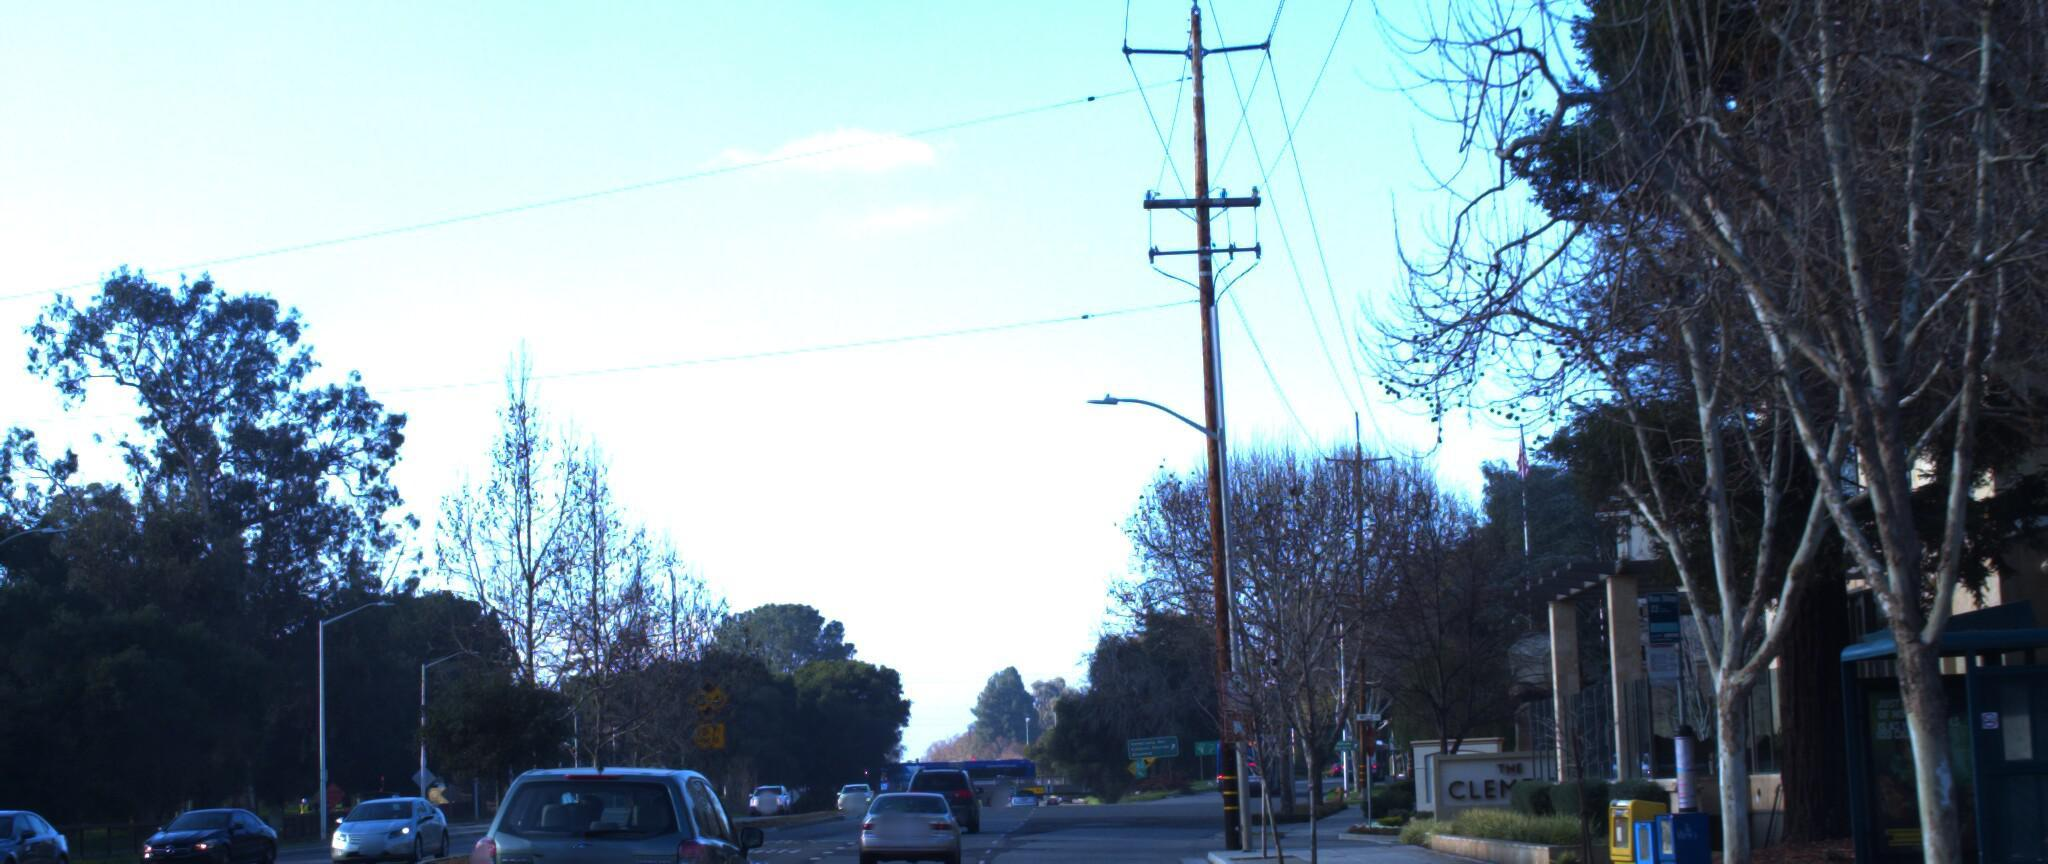car: (456, 750, 780, 864), (325, 783, 456, 864), (852, 777, 969, 864), (138, 800, 287, 864), (0, 801, 93, 864)
